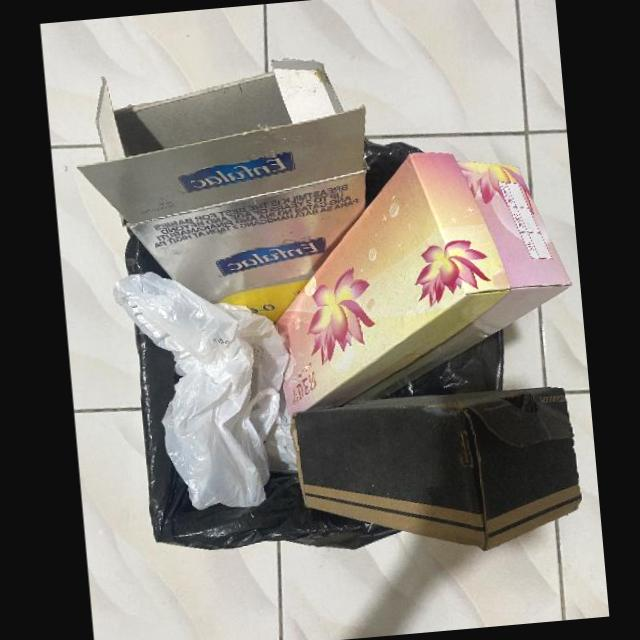carton: (268, 153, 572, 424), (76, 60, 367, 324), (290, 387, 581, 551)
tui_ni_long: (112, 271, 295, 510)
